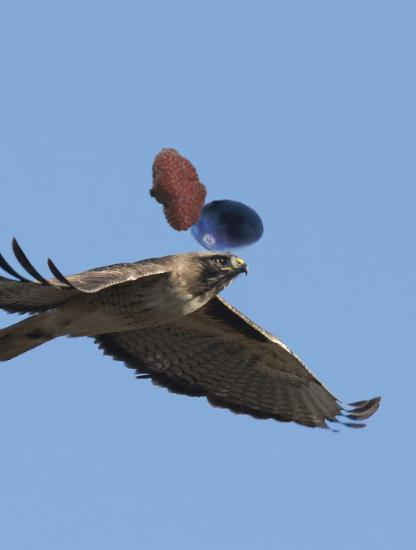Plum: (189, 189, 265, 265)
Strawberry: (134, 146, 220, 232)
